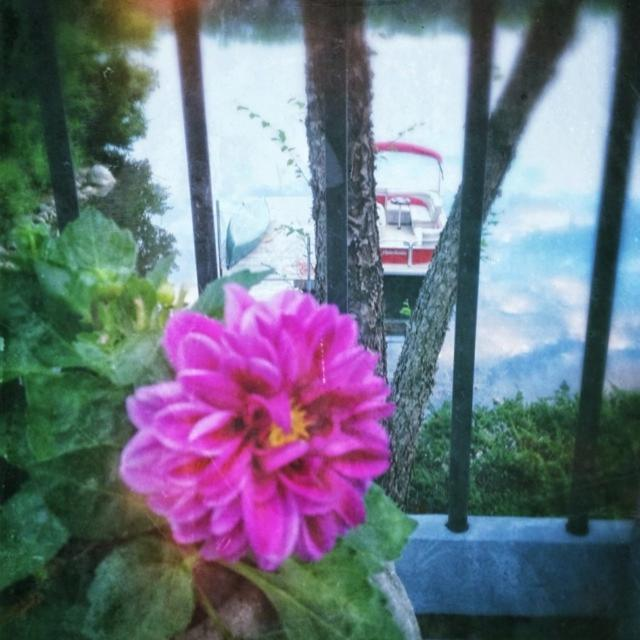Flower: (120, 280, 408, 590)
